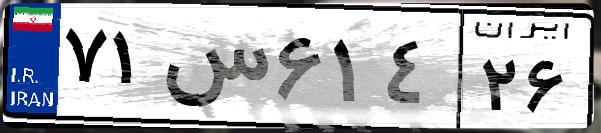1: (330, 28, 385, 110), (110, 28, 158, 98)
2: (475, 38, 525, 113)
4: (385, 28, 445, 110)
6: (270, 28, 330, 110), (525, 38, 570, 115)
7: (57, 26, 110, 100)
س: (158, 20, 270, 120)
